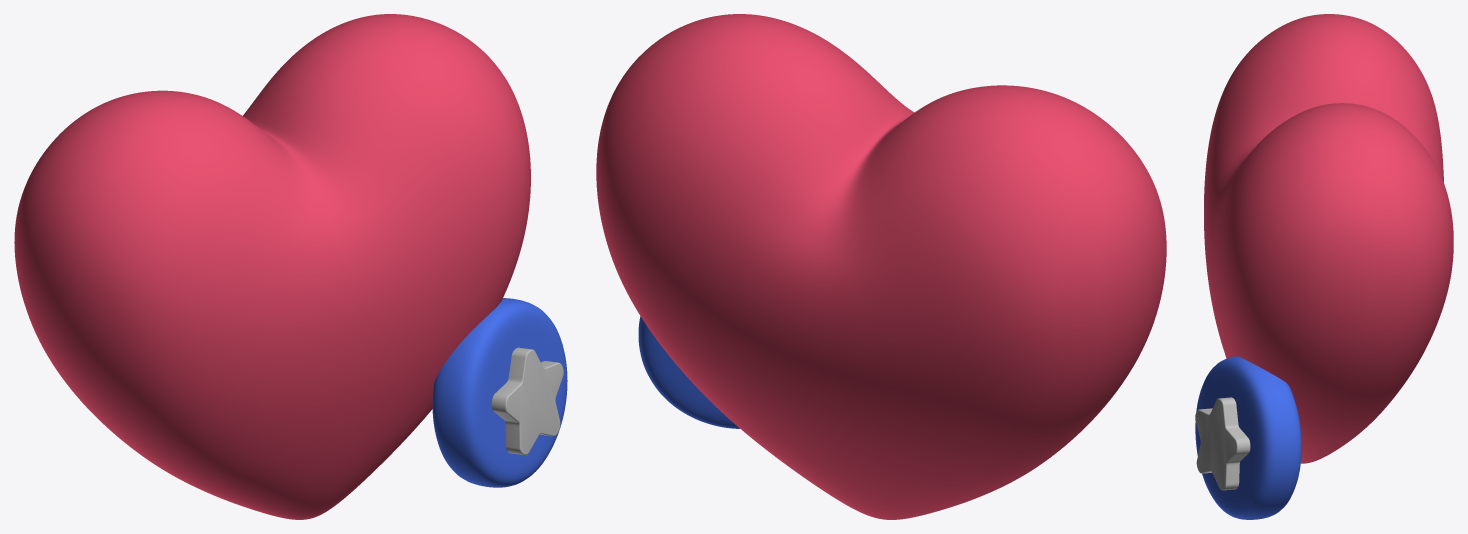
Rendered from favorite-3d-animated-icon-809600451251.glb.
3 views of the same model, side by side, from view 1: azimuth 30°, elevation 25°; view 2: azimuth 150°, elevation 25°; view 3: azimuth 270°, elevation 25° (orthographic). The views are drawn at different scales.
Parts seen in each view (by area): view 1: heart, cylinder, star; view 2: heart, cylinder; view 3: heart, cylinder, star.
Boxes of the visible parts, box(x1,y1,x2,y2) form: heart: box(14, 14, 530, 519); cylinder: box(432, 298, 567, 487); star: box(491, 347, 563, 455); heart: box(596, 14, 1166, 519); cylinder: box(638, 316, 739, 428); heart: box(1204, 14, 1453, 463); cylinder: box(1195, 356, 1301, 519); star: box(1195, 397, 1250, 490).
Size of the model in its own units: 3.13 by 2.68 by 1.61.
